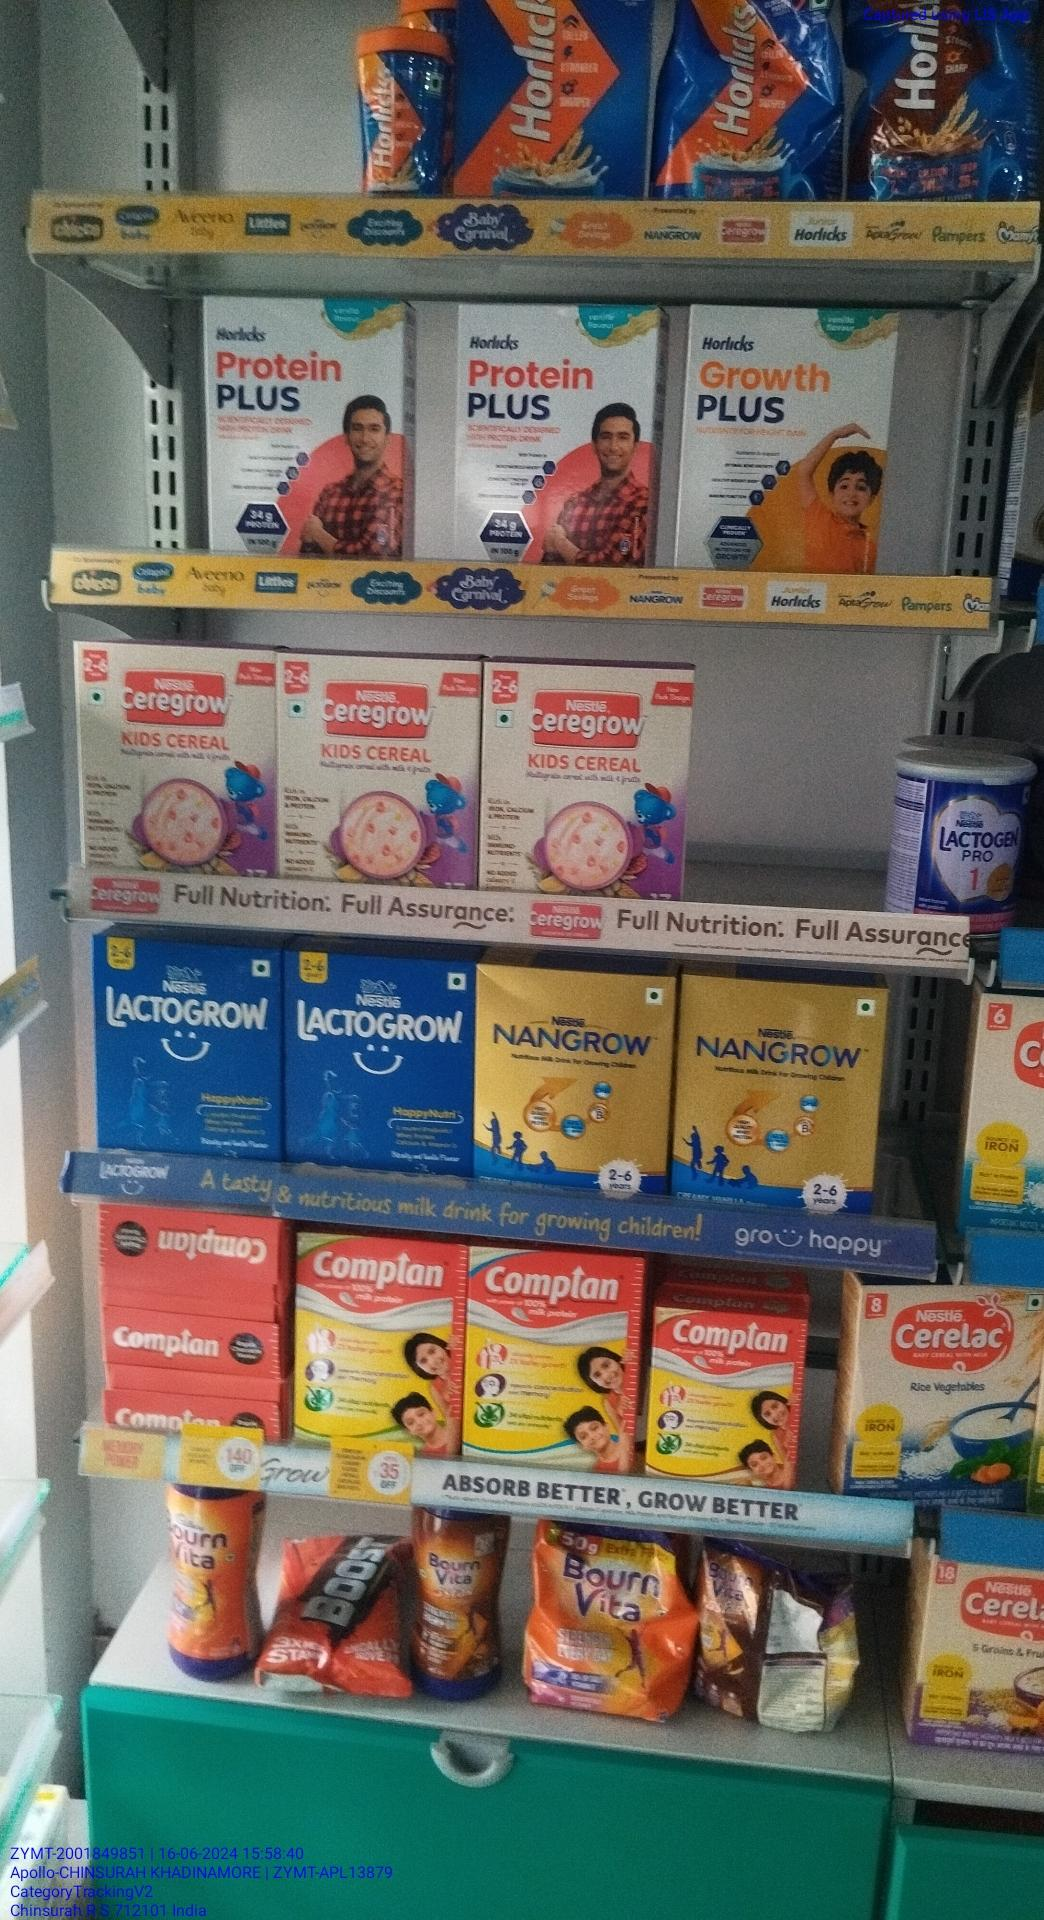BOURN_VITA_500_G_JAR: (165, 1483, 253, 1678)
BOURN_VITA_FIVE_STAR_MAGIC_500_G_JAR: (411, 1504, 505, 1699)
COMPLAN_CREAMY_CLASSIC_500_G_PACK: (469, 1247, 634, 1466)
COMPLAN_KESAR_BADAM_200_GMS_PACK: (651, 1307, 797, 1486)
COMPLAN_KESAR_BADAM_500_GMS_PACK: (293, 1236, 463, 1438)
HORLICK_CLASSIC_MALT_200_G_JAR: (356, 26, 441, 194)
